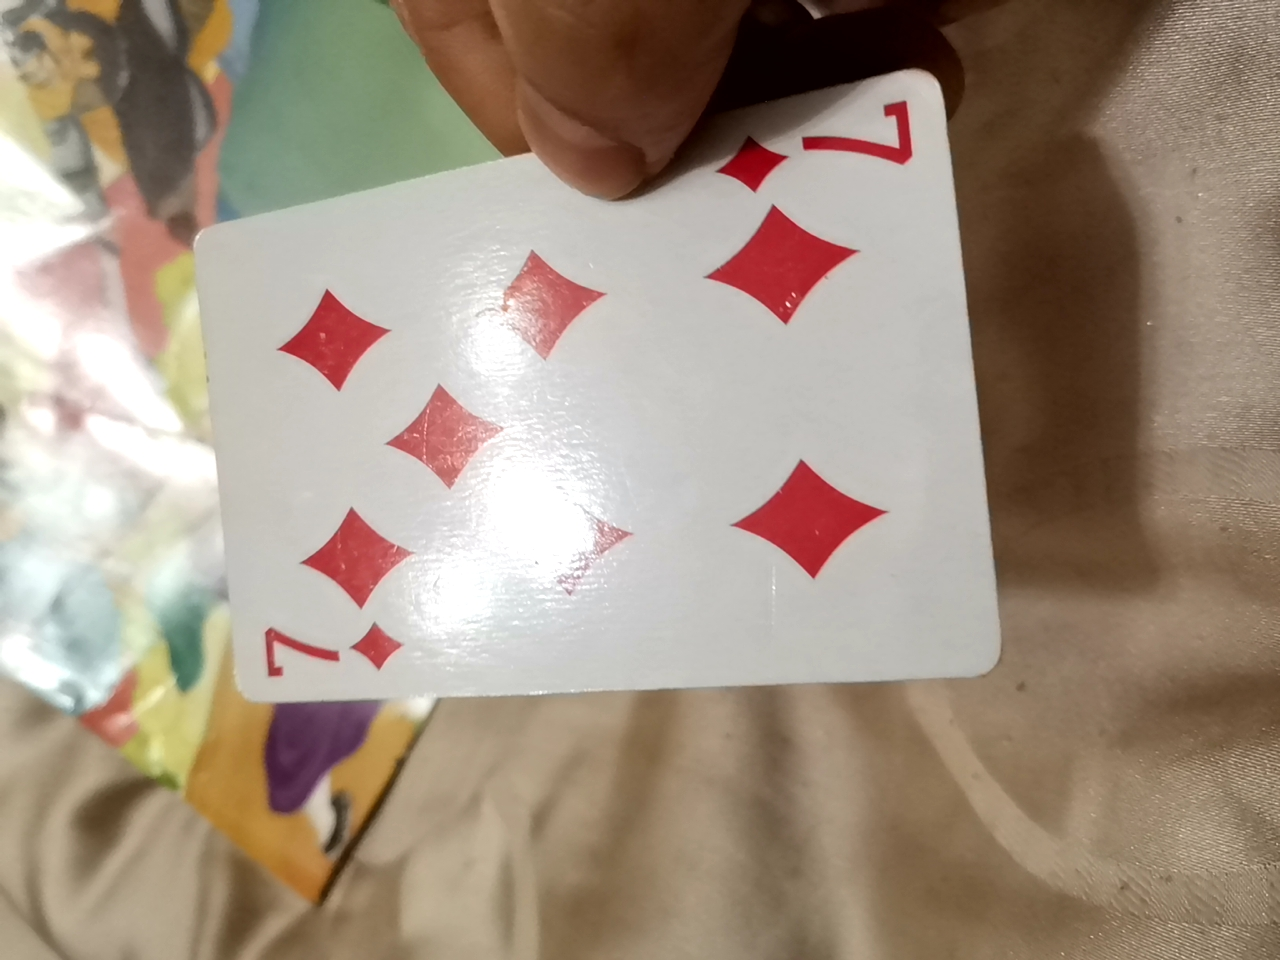fk 7: (234, 108, 982, 714)
